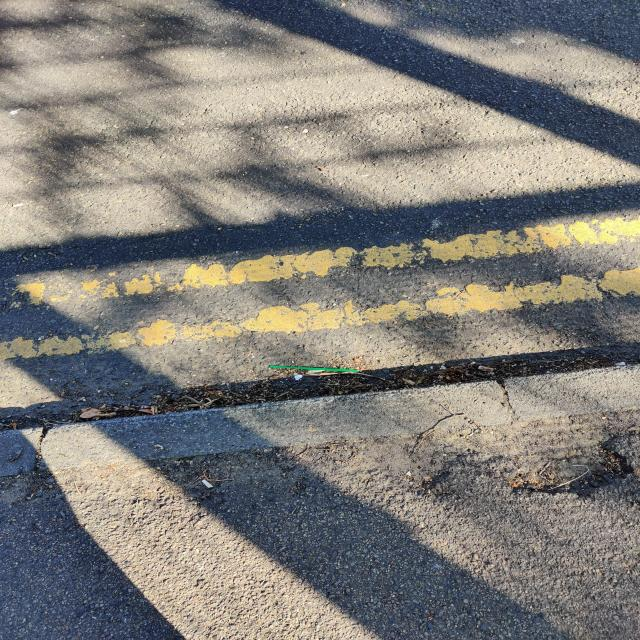litter: (199, 361, 628, 488)
